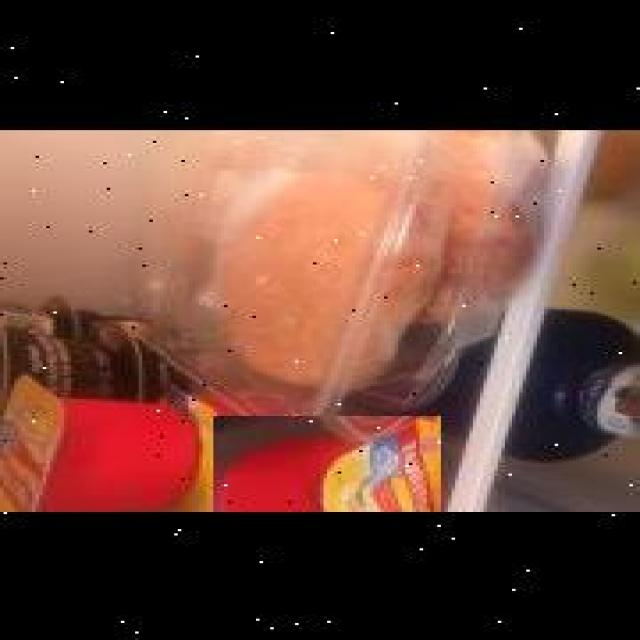yogurt: (0, 369, 199, 512), (213, 414, 441, 512)
